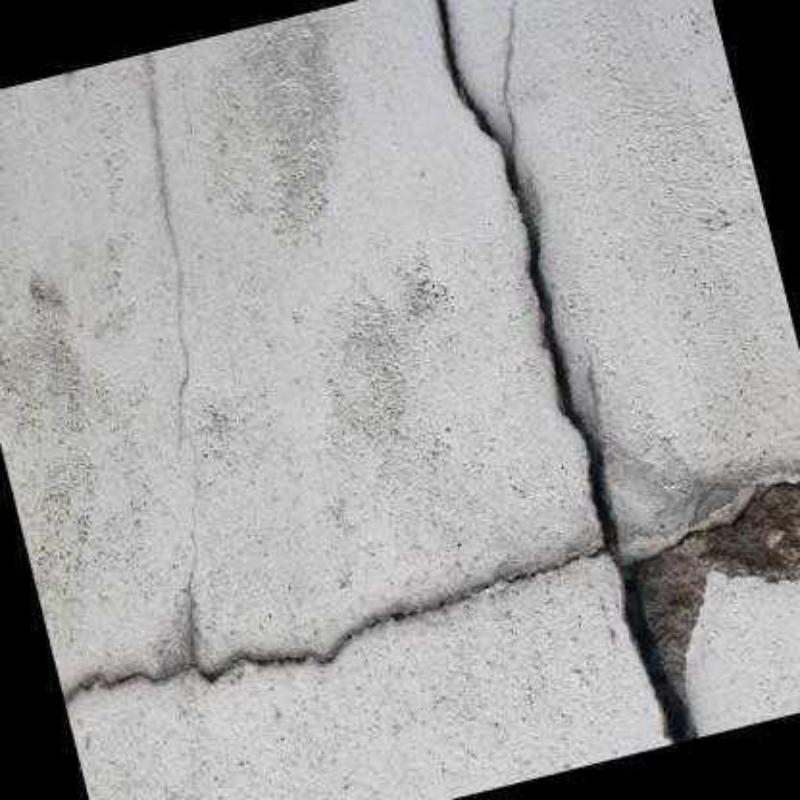pothole: (65, 4, 798, 746), (502, 2, 517, 144)
